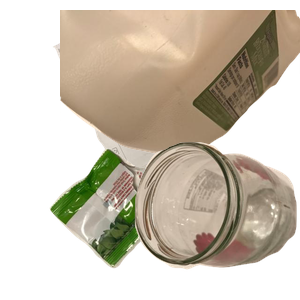glass: (132, 139, 300, 300)
paper: (51, 13, 230, 186)
plastic: (60, 10, 300, 160)
trash: (47, 146, 220, 300)
